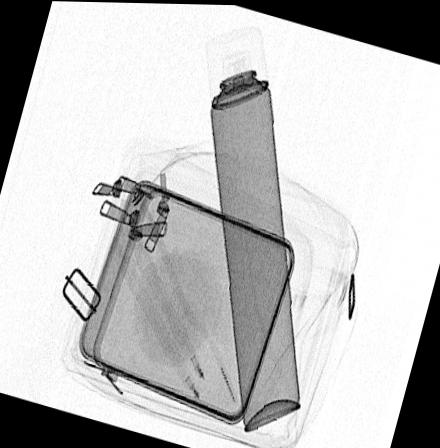Sprayer: (202, 23, 301, 433)
